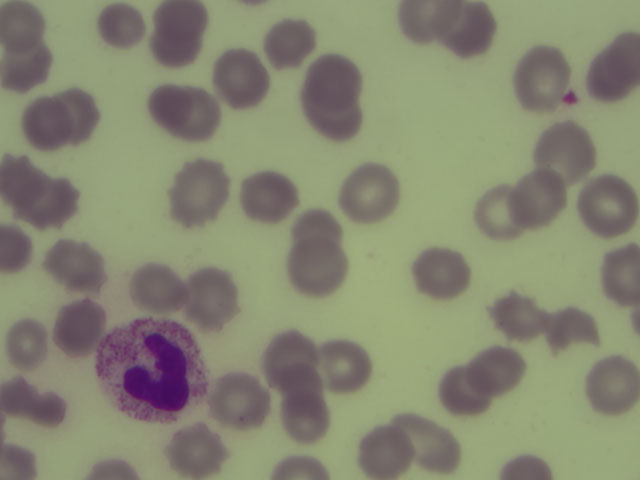Platelets: (562, 86, 584, 110)
RBC: (1, 371, 65, 432), (172, 163, 229, 226), (514, 41, 565, 110), (412, 245, 469, 299), (405, 417, 462, 471), (356, 425, 413, 479), (437, 1, 494, 55), (314, 339, 371, 393), (275, 386, 332, 440), (261, 332, 318, 386), (340, 166, 397, 220), (288, 241, 345, 295), (209, 373, 266, 427), (168, 424, 225, 478), (181, 271, 238, 325), (128, 259, 185, 313), (241, 171, 298, 225), (44, 237, 101, 291), (24, 177, 81, 231), (213, 51, 270, 105), (261, 14, 318, 68), (468, 343, 525, 397), (583, 359, 640, 413), (545, 302, 602, 356), (485, 288, 542, 342), (580, 178, 637, 232), (472, 185, 529, 239), (509, 171, 566, 225), (536, 123, 593, 177), (591, 33, 639, 97), (148, 5, 204, 58), (303, 92, 365, 138), (54, 299, 103, 355), (601, 240, 640, 310), (306, 54, 363, 99), (56, 87, 102, 142), (174, 86, 220, 140), (1, 153, 46, 208), (291, 207, 343, 254), (396, 1, 457, 41), (22, 95, 67, 148), (1, 37, 49, 85), (97, 2, 143, 52), (6, 316, 48, 370), (147, 81, 193, 126), (438, 370, 485, 412), (266, 448, 327, 480), (1, 1, 42, 46), (1, 221, 35, 275), (499, 448, 555, 480), (1, 439, 42, 480)
WBC: (105, 318, 203, 422)
